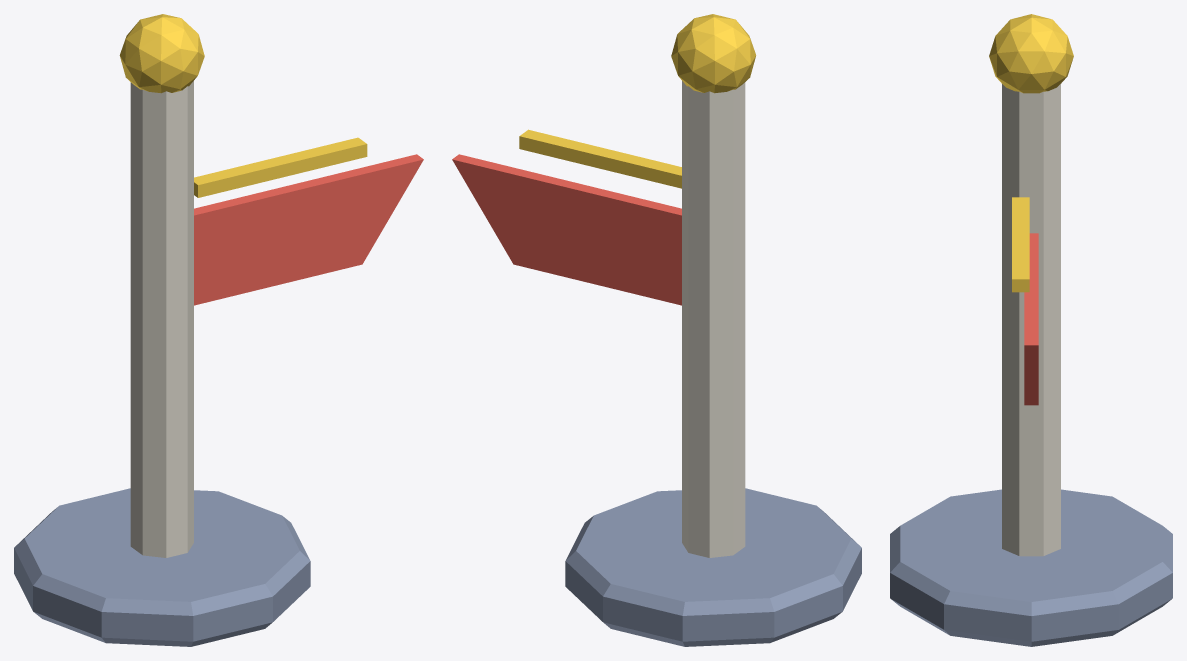
Rendered from flag_pedestal.glb.
The picture shows the model from 3 angles, left to right: view 1: azimuth 30°, elevation 25°; view 2: azimuth 150°, elevation 25°; view 3: azimuth 270°, elevation 25°; orthographic projection.
Parts seen in each view (by area): view 1: flag_pedestal; view 2: flag_pedestal; view 3: flag_pedestal.
Boxes of the visible parts, <box> form: flag_pedestal: <box>14,14,423,646</box>; flag_pedestal: <box>452,14,861,646</box>; flag_pedestal: <box>890,14,1172,646</box>.
Size of the model in its own units: 1.26 by 1.78 by 0.7989.
